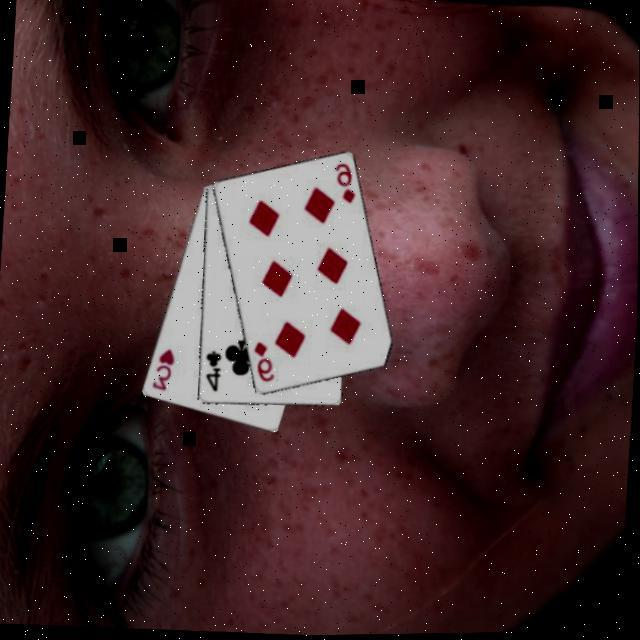3H: (148, 343, 176, 392)
4C: (201, 346, 223, 394)
6D: (330, 158, 359, 206), (249, 338, 278, 384)
